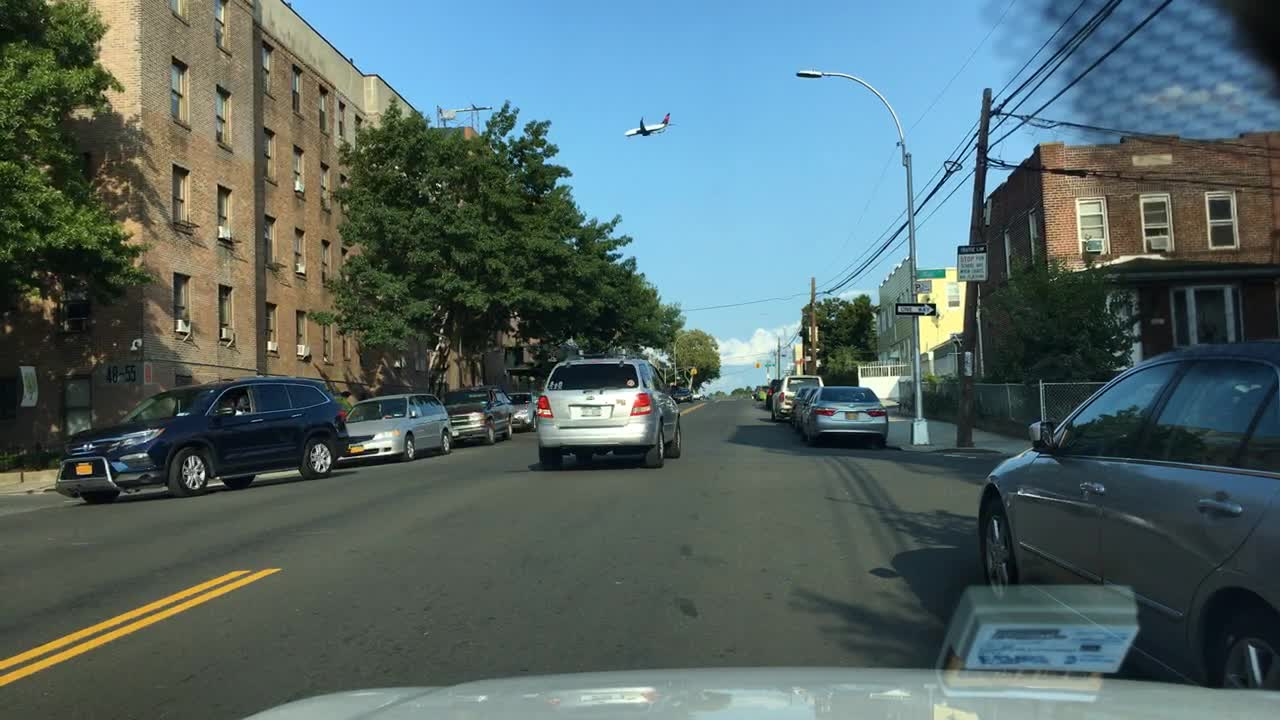car: (976, 338, 1278, 687), (55, 375, 350, 505), (537, 358, 682, 469), (338, 393, 453, 463), (801, 386, 890, 448), (439, 383, 517, 446), (771, 374, 825, 423), (506, 391, 541, 432), (765, 379, 786, 410), (672, 387, 693, 404), (754, 385, 770, 402), (693, 392, 706, 402)
traffic light: (756, 360, 762, 370), (693, 366, 697, 376), (690, 366, 694, 376)
traffic sign: (957, 245, 989, 282), (894, 301, 938, 316), (914, 268, 946, 278), (916, 279, 933, 294), (765, 363, 778, 367)
